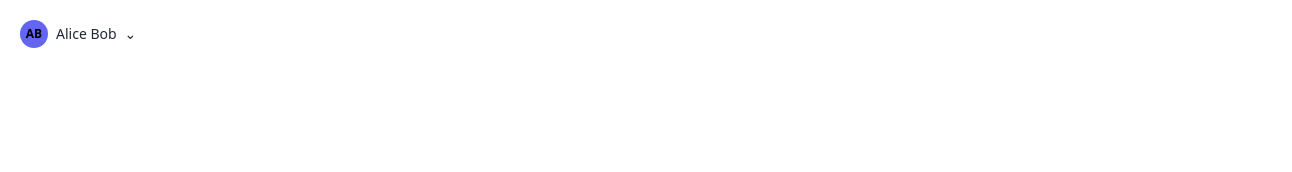
Scenario: UserMenu › shows identity, toggles the menu and links to the profile
The image size is (1292, 172).
Click the button with aria-label "User menu for Alice Bob" at [78, 34], box top-left (12, 12), bottom-right (144, 56)
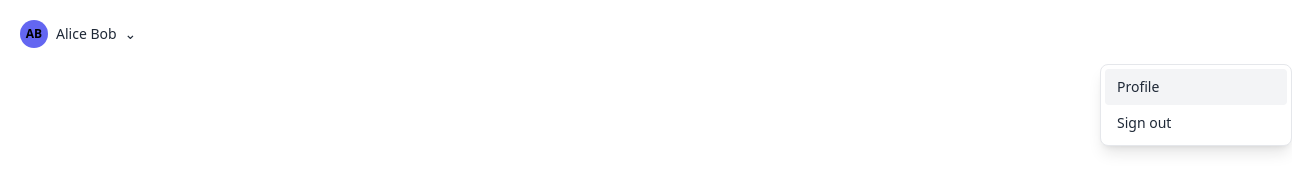
Now the menu is shown, box top-left (1100, 64), bottom-right (1291, 146)
Click the button with aria-label "User menu for Alice Bob" at [78, 34], box top-left (12, 12), bottom-right (144, 56)
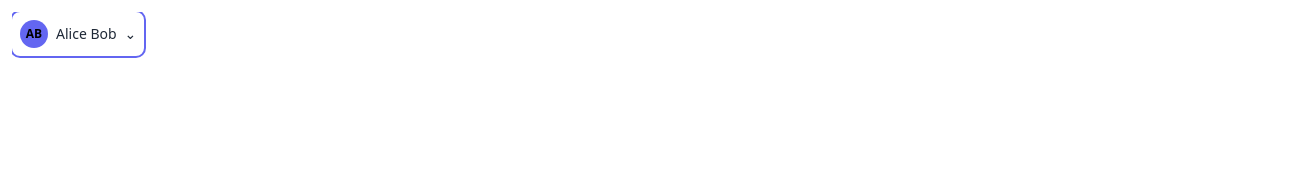
Now the menu is gone
